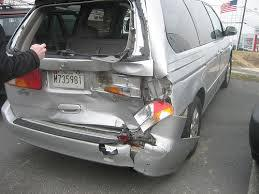Taillight-Damage: (141, 72, 174, 122)
boot-dent: (25, 62, 133, 119)
rear-bumper-dent: (79, 123, 184, 167)
